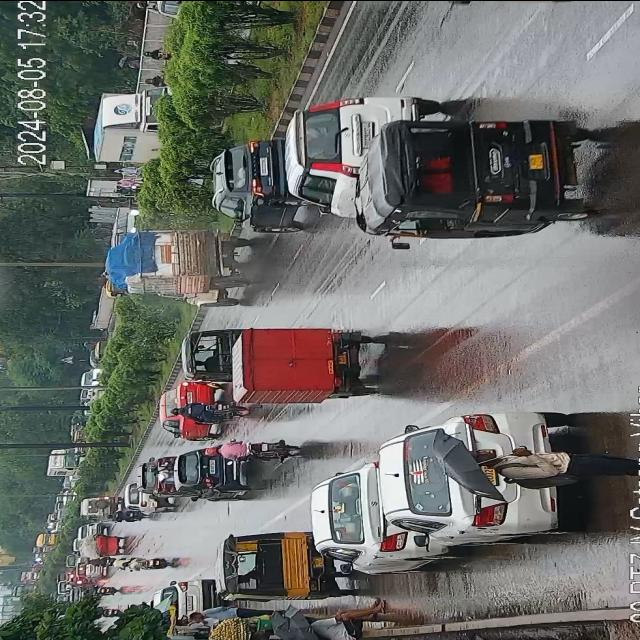2-wheelers: (218, 434, 306, 462), (176, 398, 243, 423), (144, 456, 177, 478), (121, 558, 176, 568), (92, 584, 120, 598), (106, 511, 148, 520), (85, 555, 116, 565)
auto: (356, 110, 594, 244), (235, 322, 378, 402), (218, 530, 337, 602), (184, 324, 246, 388), (76, 534, 124, 556)
car: (382, 422, 528, 554), (279, 86, 419, 215), (310, 465, 424, 571), (218, 128, 298, 234), (152, 576, 210, 632), (179, 456, 245, 498), (122, 485, 169, 511), (82, 491, 120, 512), (137, 480, 178, 498), (78, 520, 105, 536), (74, 564, 104, 578)
pedestrian: (466, 444, 626, 480), (304, 596, 388, 640), (190, 608, 270, 622), (173, 618, 207, 630)
truck: (106, 228, 250, 308), (90, 82, 168, 162), (46, 444, 85, 476)
